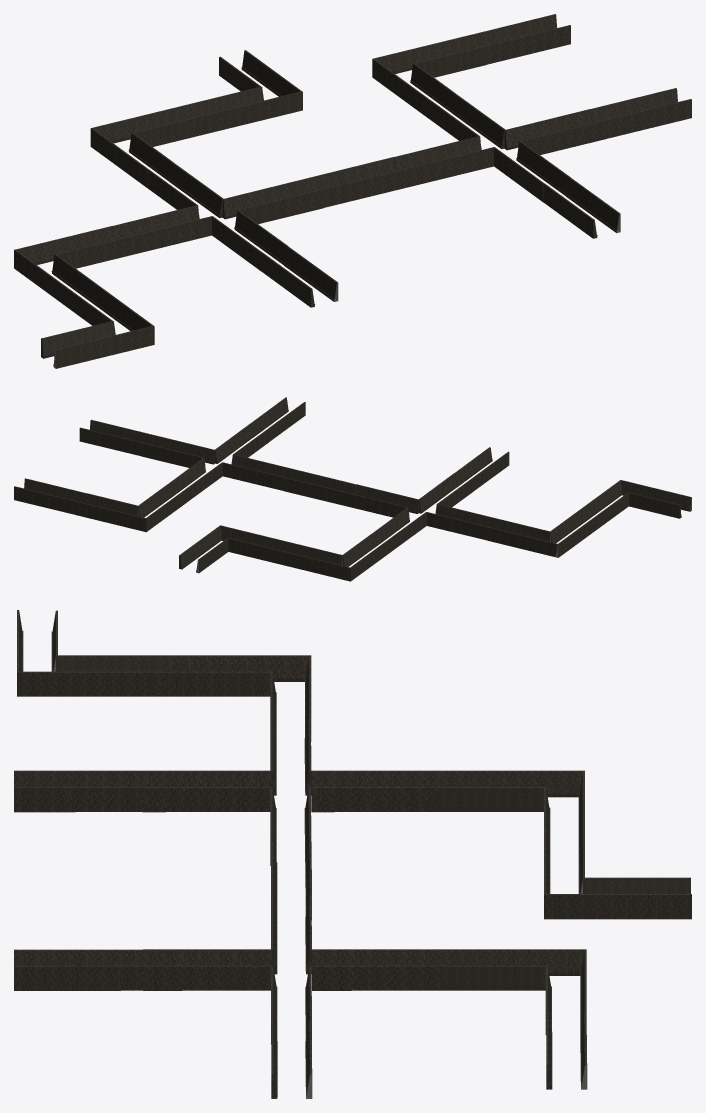
Rendered from maze_2.fbx.
3 views of the same model, one above another, from view 1: azimuth 30°, elevation 25°; view 2: azimuth 150°, elevation 25°; view 3: azimuth 270°, elevation 25° (orthographic). The views are drawn at different scales.
Parts seen in each view (by area): view 1: polySurface85; view 2: polySurface85; view 3: polySurface85.
Boxes of the visible parts, x1=… form: polySurface85: x1=14, y1=14, x2=691, y2=368; polySurface85: x1=14, y1=397, x2=691, y2=581; polySurface85: x1=14, y1=610, x2=691, y2=1098.
Size of the model in its own units: 495 by 12 by 305.
2 materials, 1 textured.
